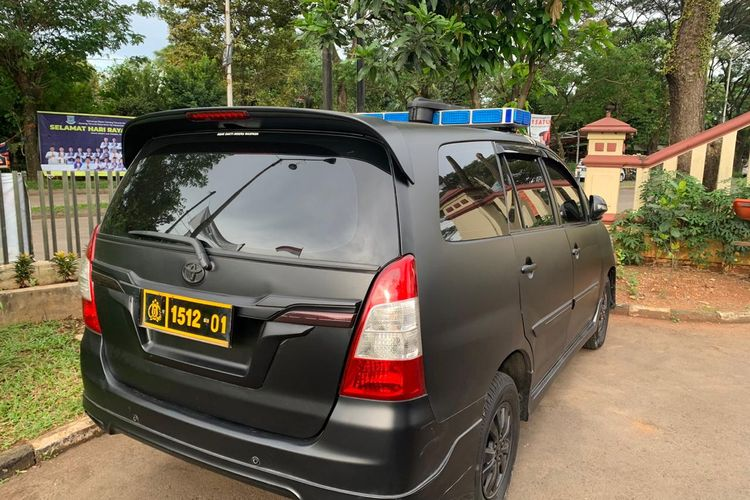plate: (168, 297, 231, 345)
